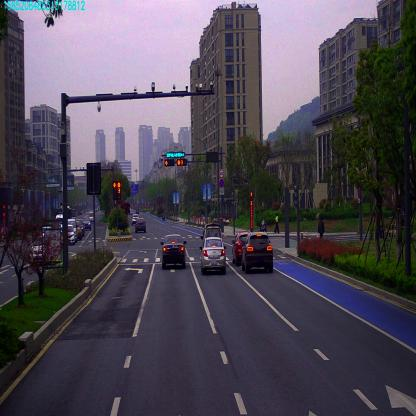traffic-light: (164, 151, 186, 156), (163, 157, 173, 165), (177, 160, 186, 165)
